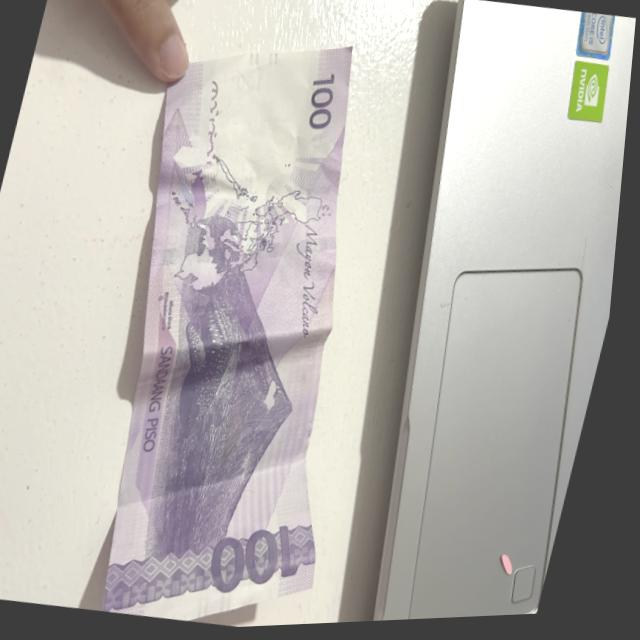100_whale: (165, 275, 253, 448)
100_whale_watermark: (183, 165, 221, 230)
value_watermark: (233, 68, 268, 102)
